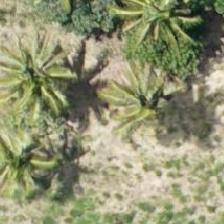coconut_tree: (110, 58, 200, 148), (10, 36, 100, 126), (114, 0, 204, 56)
